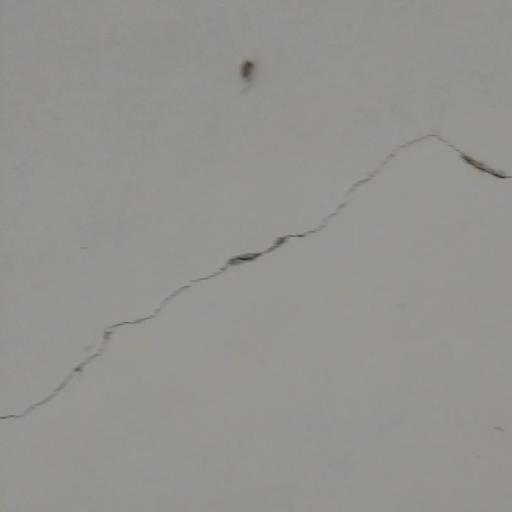major_crack: (4, 106, 506, 444)
